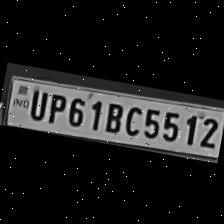1: (179, 110, 200, 145), (84, 96, 105, 130)
2: (194, 112, 221, 148)
5: (158, 105, 182, 142), (138, 103, 162, 139)
6: (62, 92, 88, 128)
B: (100, 97, 125, 133)
C: (120, 99, 144, 136)
P: (43, 88, 67, 124)
U: (25, 84, 48, 120)
